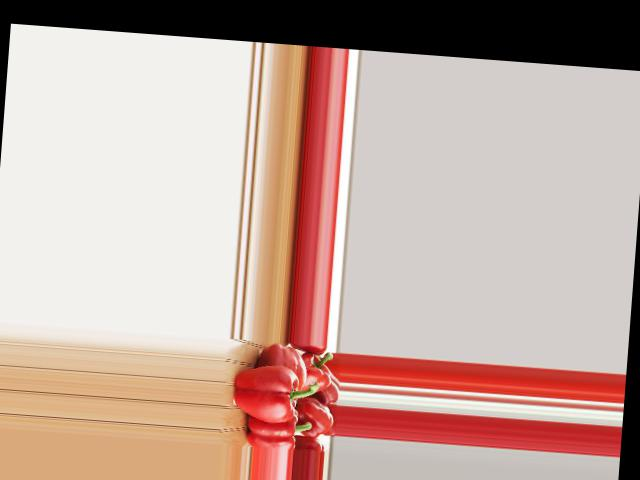bell_pepper: (296, 348, 334, 392)
